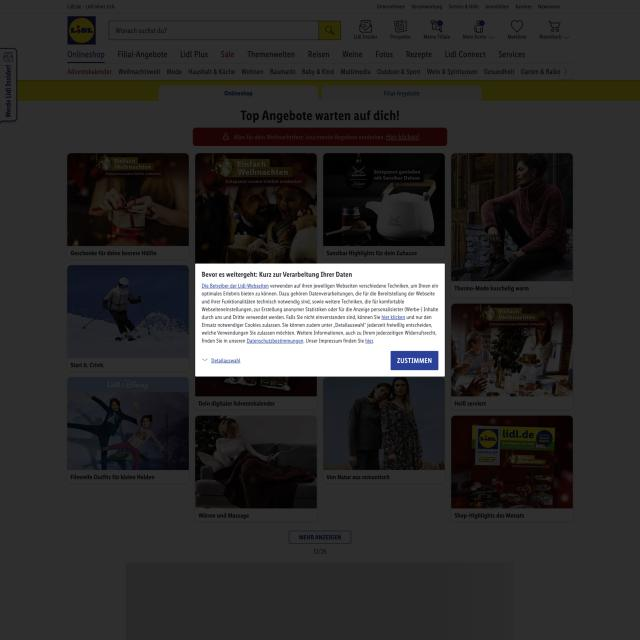CheckBox: (390, 350, 440, 370), (210, 354, 243, 367)
Input field: (198, 282, 442, 345)
breadcrumbs: (200, 268, 354, 280)
carousel: (198, 355, 210, 364)
data feed: (394, 355, 432, 366)
header: (195, 262, 444, 378)
